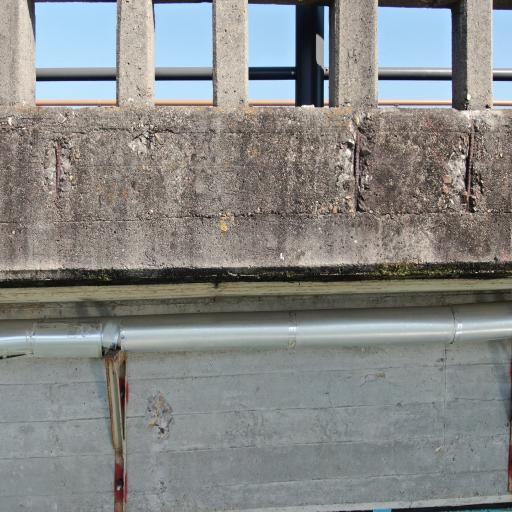exposed_rebar: (465, 123, 475, 212), (355, 130, 360, 211), (56, 142, 62, 197)
spalling: (335, 108, 378, 212), (441, 123, 477, 212), (46, 139, 76, 198)
